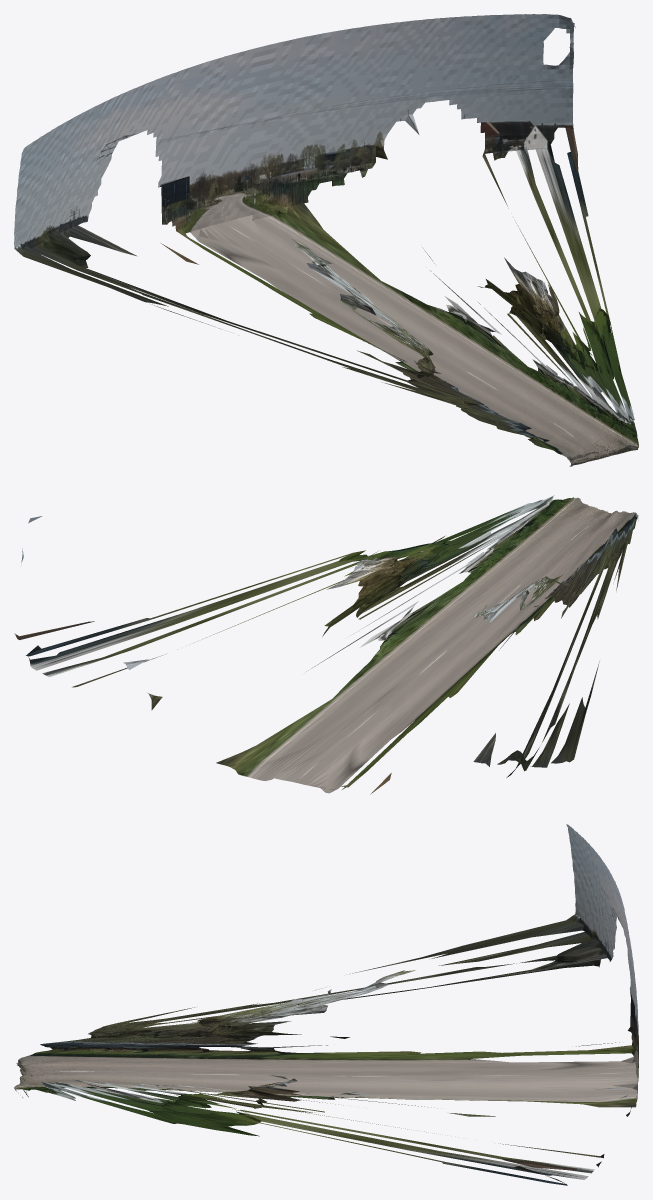
The picture shows the model from 3 angles, top to bottom: view 1: azimuth 30°, elevation 25°; view 2: azimuth 150°, elevation 25°; view 3: azimuth 270°, elevation 25°; orthographic projection. The views are drawn at different scales.
Visible parts, largest first — view 1: defaultobject; view 2: defaultobject; view 3: defaultobject.
Part boxes in pixels (bbox=[...]): defaultobject: bbox=[14, 14, 638, 466]; defaultobject: bbox=[14, 495, 638, 794]; defaultobject: bbox=[14, 824, 638, 1185].
Size of the model in its own units: 41.14 by 12.63 by 44.49.
Materials: 1 (1 with a texture image).
